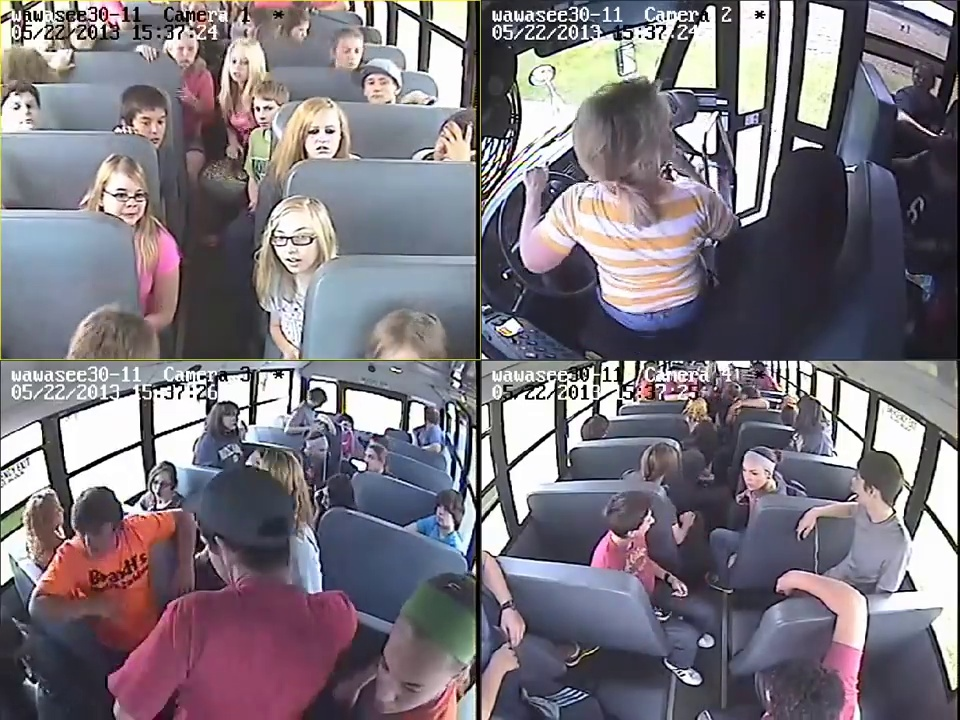face: (366, 632, 429, 710), (270, 220, 316, 272), (303, 110, 343, 157), (107, 173, 145, 220), (6, 91, 42, 129), (358, 66, 393, 105), (137, 104, 167, 142), (255, 93, 275, 130), (152, 473, 176, 502), (434, 500, 457, 529), (741, 465, 764, 491), (229, 60, 253, 83), (221, 411, 239, 432)
